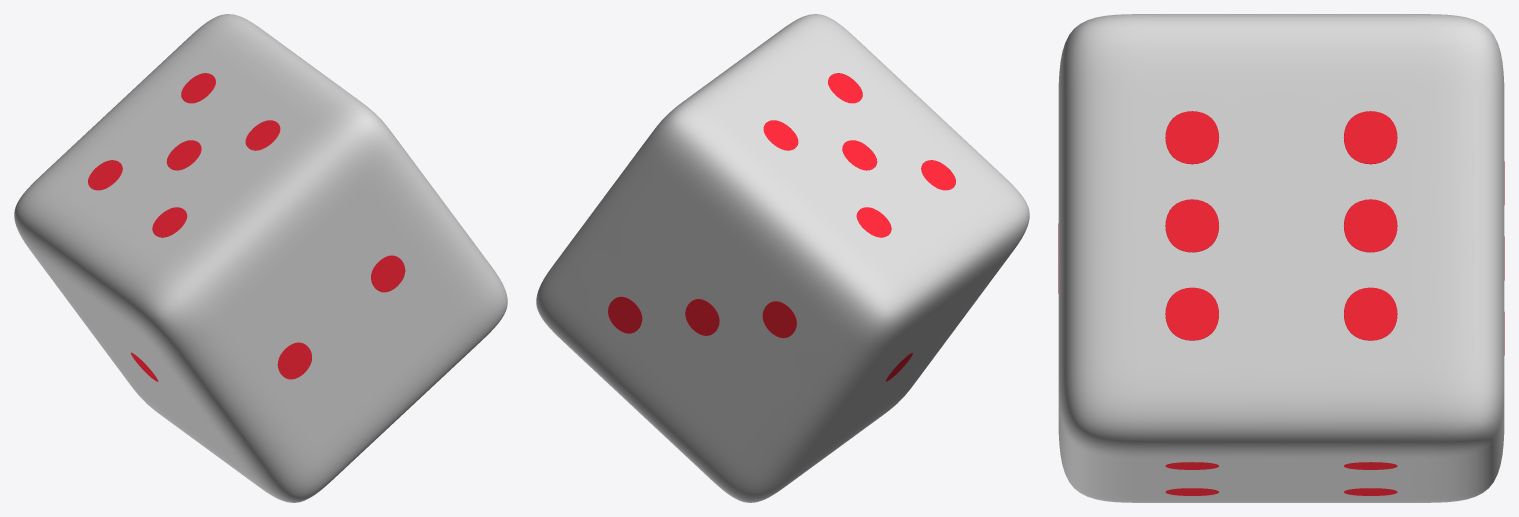
The model's file is animdice.glb.
3 views of the same model, side by side, from view 1: azimuth 30°, elevation 25°; view 2: azimuth 150°, elevation 25°; view 3: azimuth 270°, elevation 25° (orthographic). The views are drawn at different scales.
Parts seen in each view (by area): view 1: Cube; view 2: Cube; view 3: Cube.
Boxes of the visible parts, left/top/right/bottom form: Cube: left=14, top=14, right=507, bottom=502; Cube: left=536, top=14, right=1029, bottom=502; Cube: left=1058, top=14, right=1504, bottom=502.
Bounding box in the file's own units: 259 × 259 × 200.
